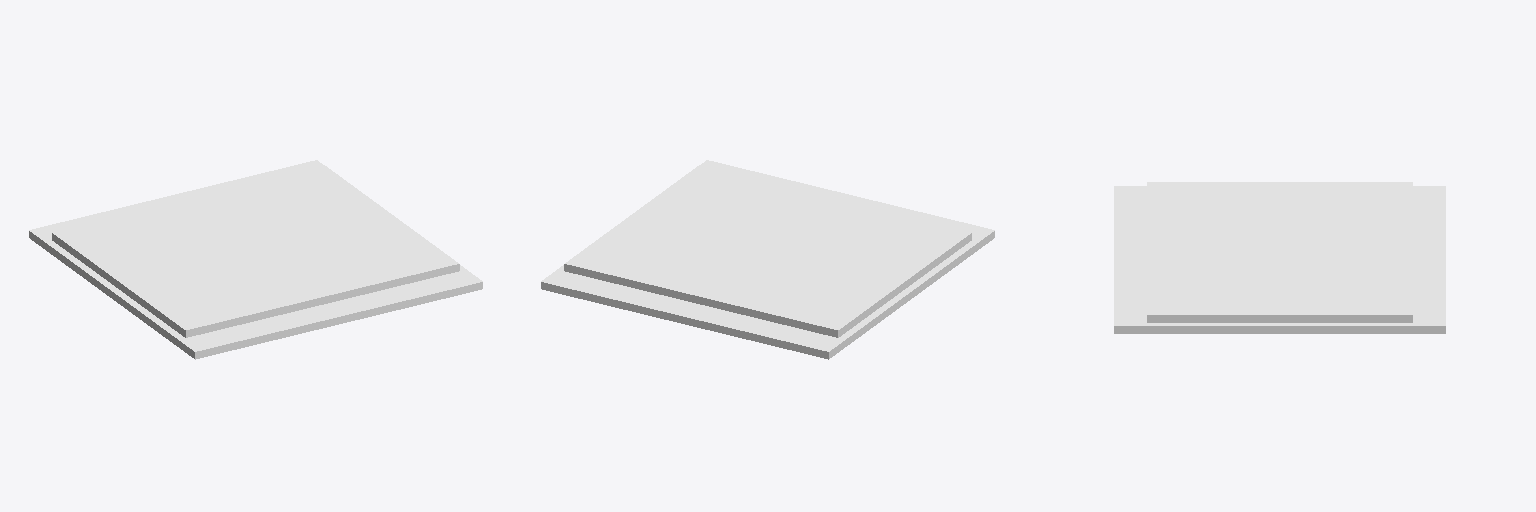
Rendered from glue_ceiling_a.obj.
3 renders of one model, left to right at view 1: azimuth 30°, elevation 25°; view 2: azimuth 150°, elevation 25°; view 3: azimuth 270°, elevation 25°, orthographic.
Parts seen in each view (by area): view 1: object 1; view 2: object 1; view 3: object 1.
Part boxes in pixels (x1,y1,x2,y2): object 1: (29,160,482,359); object 1: (541,160,994,359); object 1: (1114,182,1445,333).
Size of the model in its own units: 4 by 0.2 by 4.